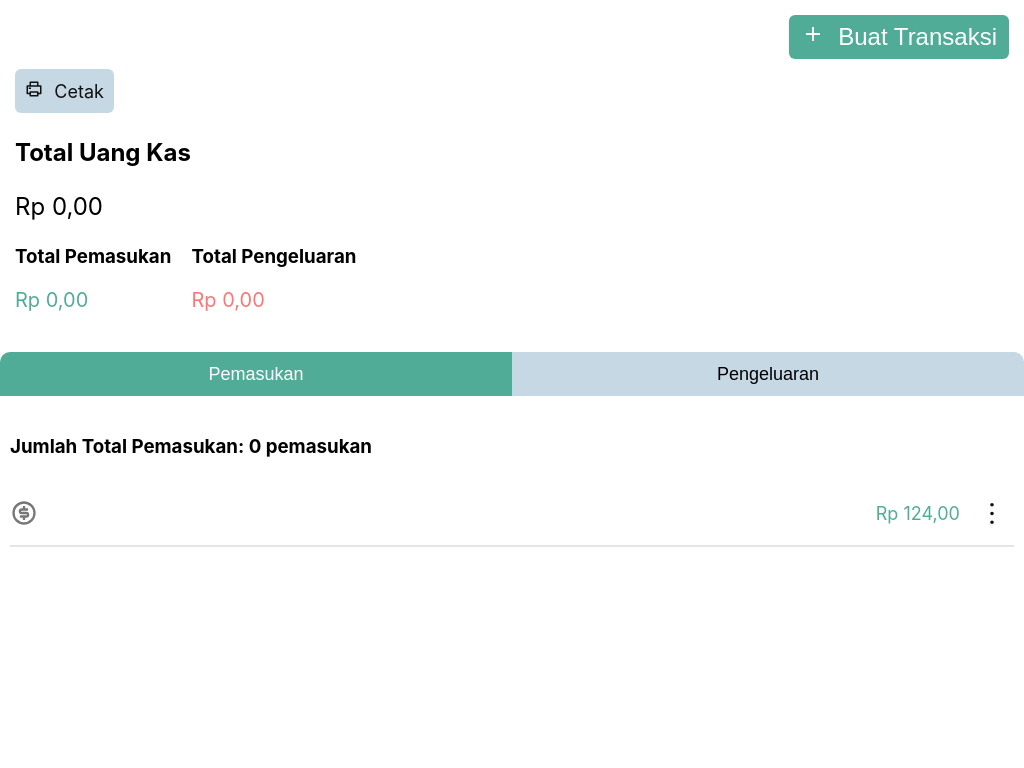
Test case: Admin successfully remove outcome transaction
The image size is (1024, 768).
Click the button with test id "outcome-tab-btn".
click(768, 374)  # box [512, 352, 1023, 396]
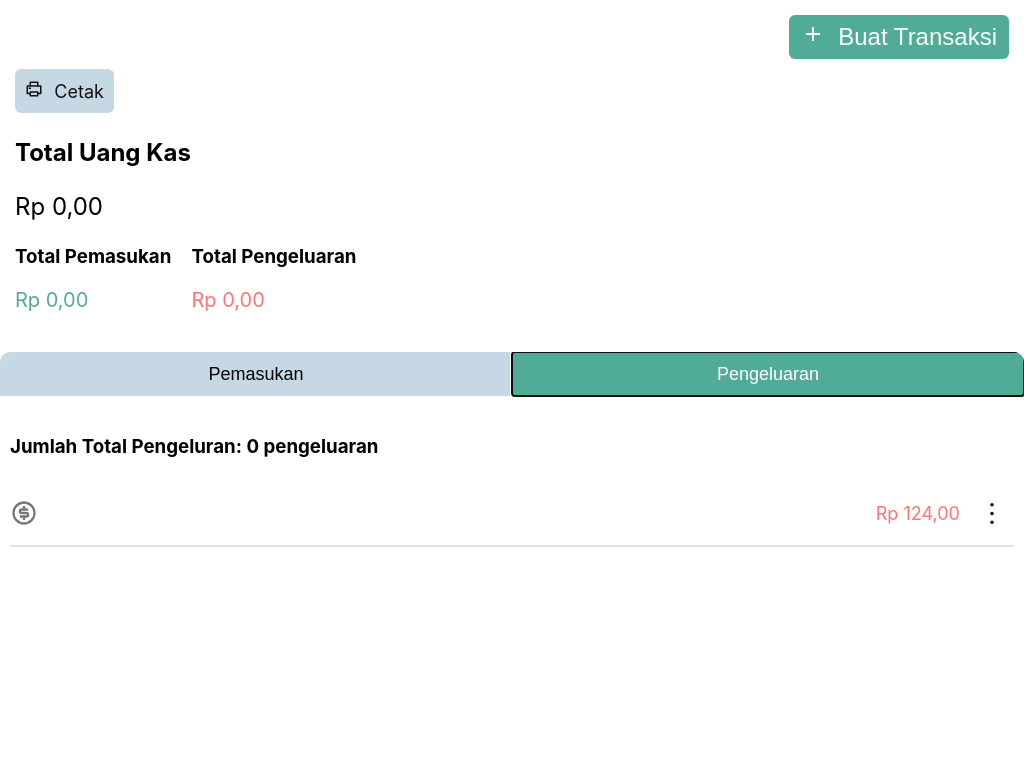
Expected: the text with test id "cashflow-item" has class "test__outcome__color", [876, 503, 960, 524]
Expected: the text with test id "cashflow-item" does not have class "test__income__color", [876, 503, 960, 524]
Click the button with test id "cashflow-item-btn".
click(992, 513)  # box [970, 491, 1014, 535]
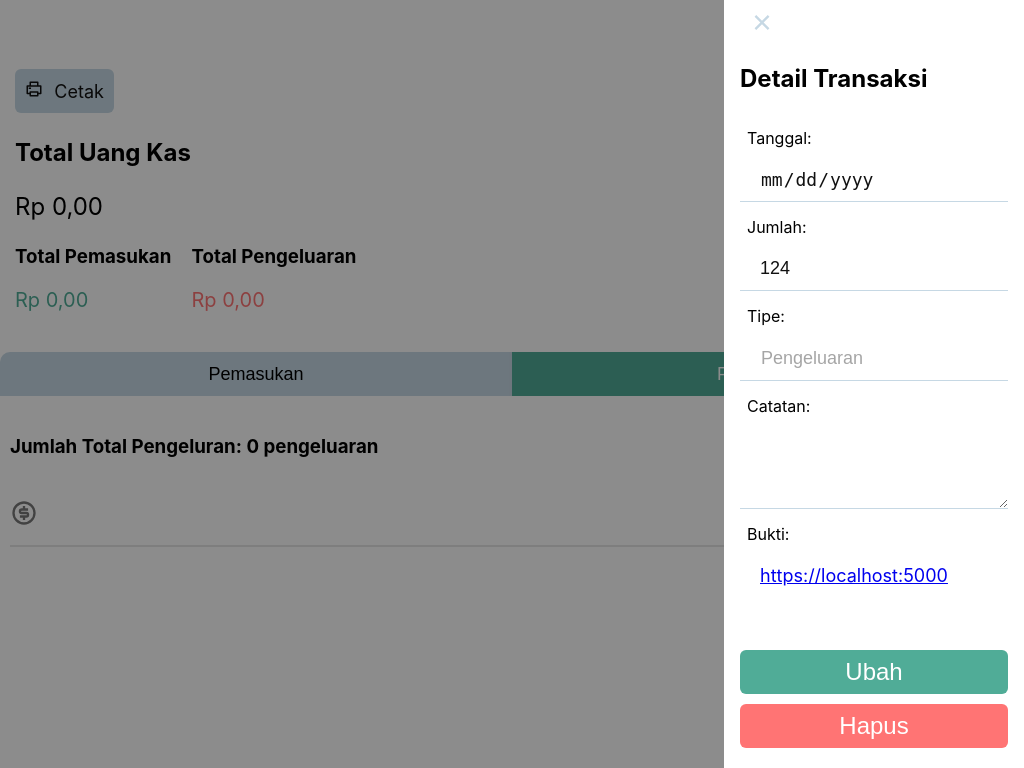
Click the button with test id "remove-cashflow-btn".
click(874, 726)  # box [740, 704, 1008, 748]
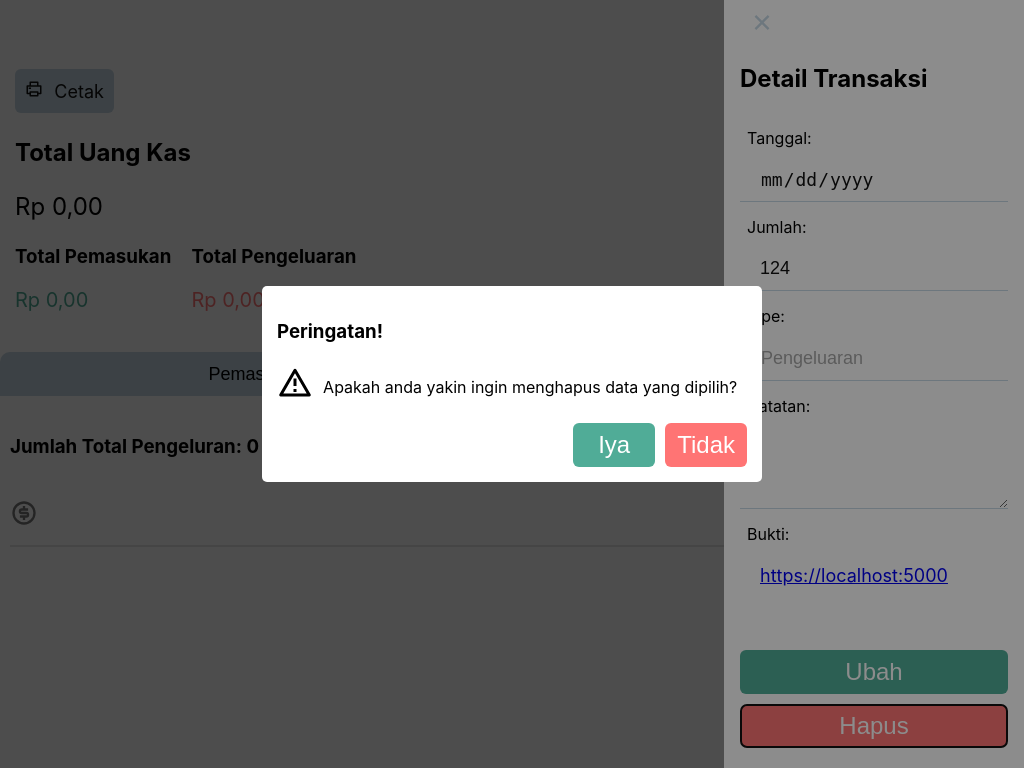
Expected: the button with test id "popup-modal-conf-btn" is shown
Click the button with test id "popup-modal-conf-btn".
click(614, 445)  # box [573, 423, 655, 467]
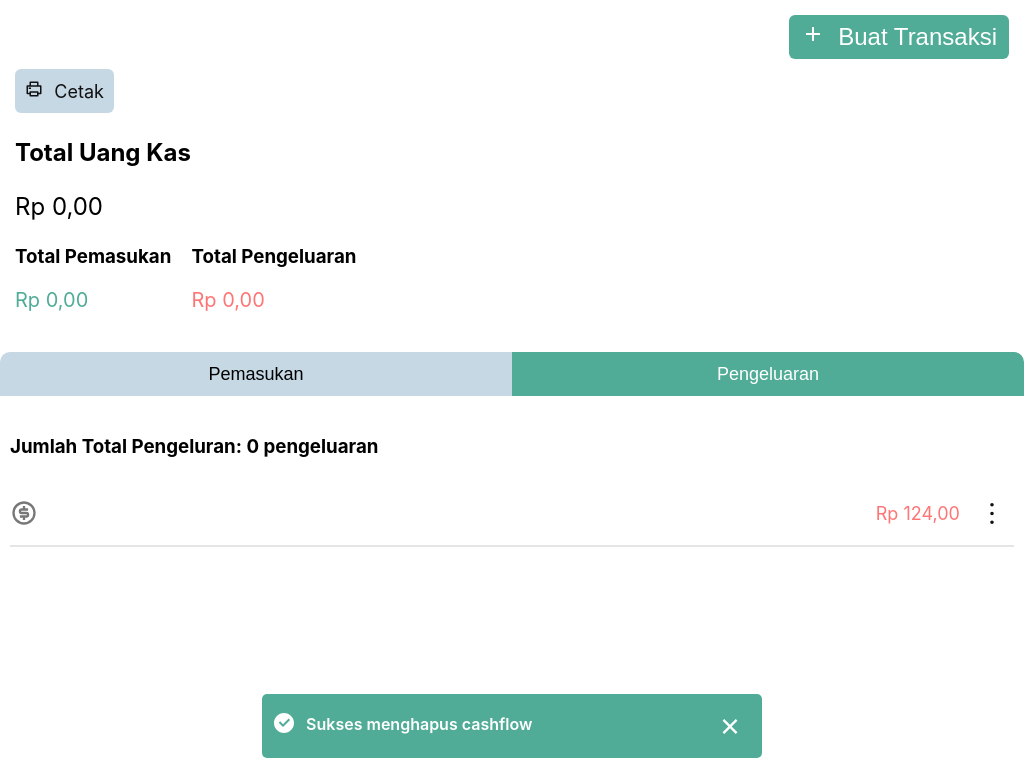
Expected: the button with test id "popup-modal-conf-btn" is gone
